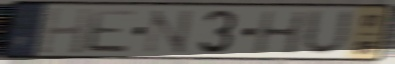3: (195, 8, 242, 56)
E: (84, 8, 138, 55)
H: (37, 5, 93, 56), (251, 9, 307, 56)
N: (141, 8, 195, 55)
U: (300, 7, 356, 58)
